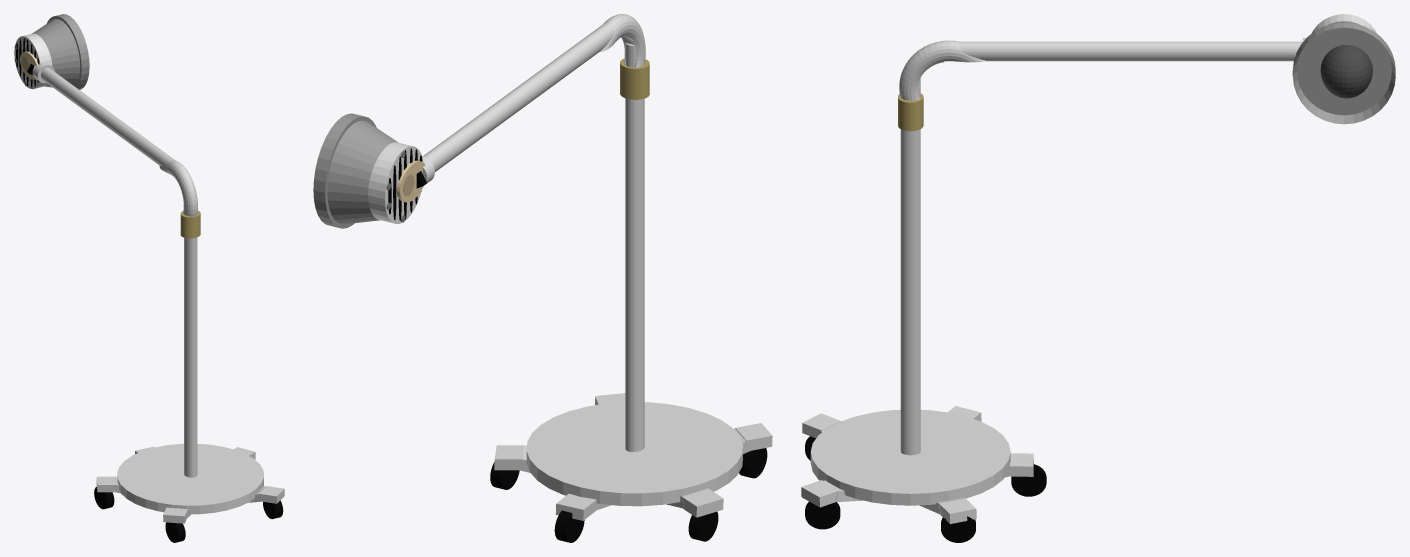
Rendered from wheelyLamp.fbx.
3 renders of one model, left to right at view 1: azimuth 30°, elevation 25°; view 2: azimuth 150°, elevation 25°; view 3: azimuth 270°, elevation 25°, orthographic. The views are drawn at different scales.
Visible parts, largest first — view 1: Cylinder, Cylinder.001, Cylinder.024, Cylinder.007, Cube.004, Torus, Cylinder.009, Cylinder.008, Cylinder.002; view 2: Cylinder, Cylinder.001, Cylinder.024, Cylinder.007, Cube.004, Cylinder.009, Torus, Cylinder.008, Cylinder.004, Cylinder.003, Cylinder.002, Cylinder.010; view 3: Cylinder, Cylinder.007, Cylinder.001, Cylinder.024, Cube.004, Sphere, Torus, Cylinder.008, Cylinder.005, Cylinder.004, Cylinder.006.
Part boxes in pixels (bbox=[...]): Cylinder: bbox=[117, 443, 263, 514]; Cylinder.001: bbox=[184, 237, 197, 477]; Cylinder.024: bbox=[32, 14, 89, 89]; Cylinder.007: bbox=[41, 67, 174, 165]; Cube.004: bbox=[96, 446, 284, 523]; Torus: bbox=[159, 160, 197, 216]; Cylinder.009: bbox=[14, 33, 52, 89]; Cylinder.008: bbox=[180, 210, 200, 238]; Cylinder.002: bbox=[165, 522, 185, 542]; Cylinder: bbox=[526, 402, 742, 506]; Cylinder.001: bbox=[625, 43, 644, 451]; Cylinder.024: bbox=[313, 113, 398, 228]; Cylinder.007: bbox=[423, 15, 620, 171]; Cube.004: bbox=[494, 393, 772, 520]; Cylinder.009: bbox=[368, 142, 423, 224]; Torus: bbox=[599, 14, 645, 67]; Cylinder.008: bbox=[620, 58, 649, 99]; Cylinder.004: bbox=[554, 510, 584, 542]; Cylinder.003: bbox=[688, 511, 718, 541]; Cylinder.002: bbox=[739, 448, 767, 478]; Cylinder.010: bbox=[396, 160, 425, 202]; Cylinder: bbox=[810, 409, 1010, 505]; Cylinder.007: bbox=[939, 41, 1302, 61]; Cylinder.001: bbox=[900, 78, 920, 455]; Cylinder.024: bbox=[1292, 21, 1395, 124]; Cube.004: bbox=[801, 406, 1033, 523]; Sphere: bbox=[1320, 45, 1372, 98]; Torus: bbox=[899, 40, 985, 100]; Cylinder.008: bbox=[898, 93, 923, 131]; Cylinder.005: bbox=[805, 501, 840, 529]; Cylinder.004: bbox=[1011, 464, 1046, 496]; Cylinder.006: bbox=[941, 516, 975, 542].
Bounding box in the file's own units: 375 × 831 × 910.
